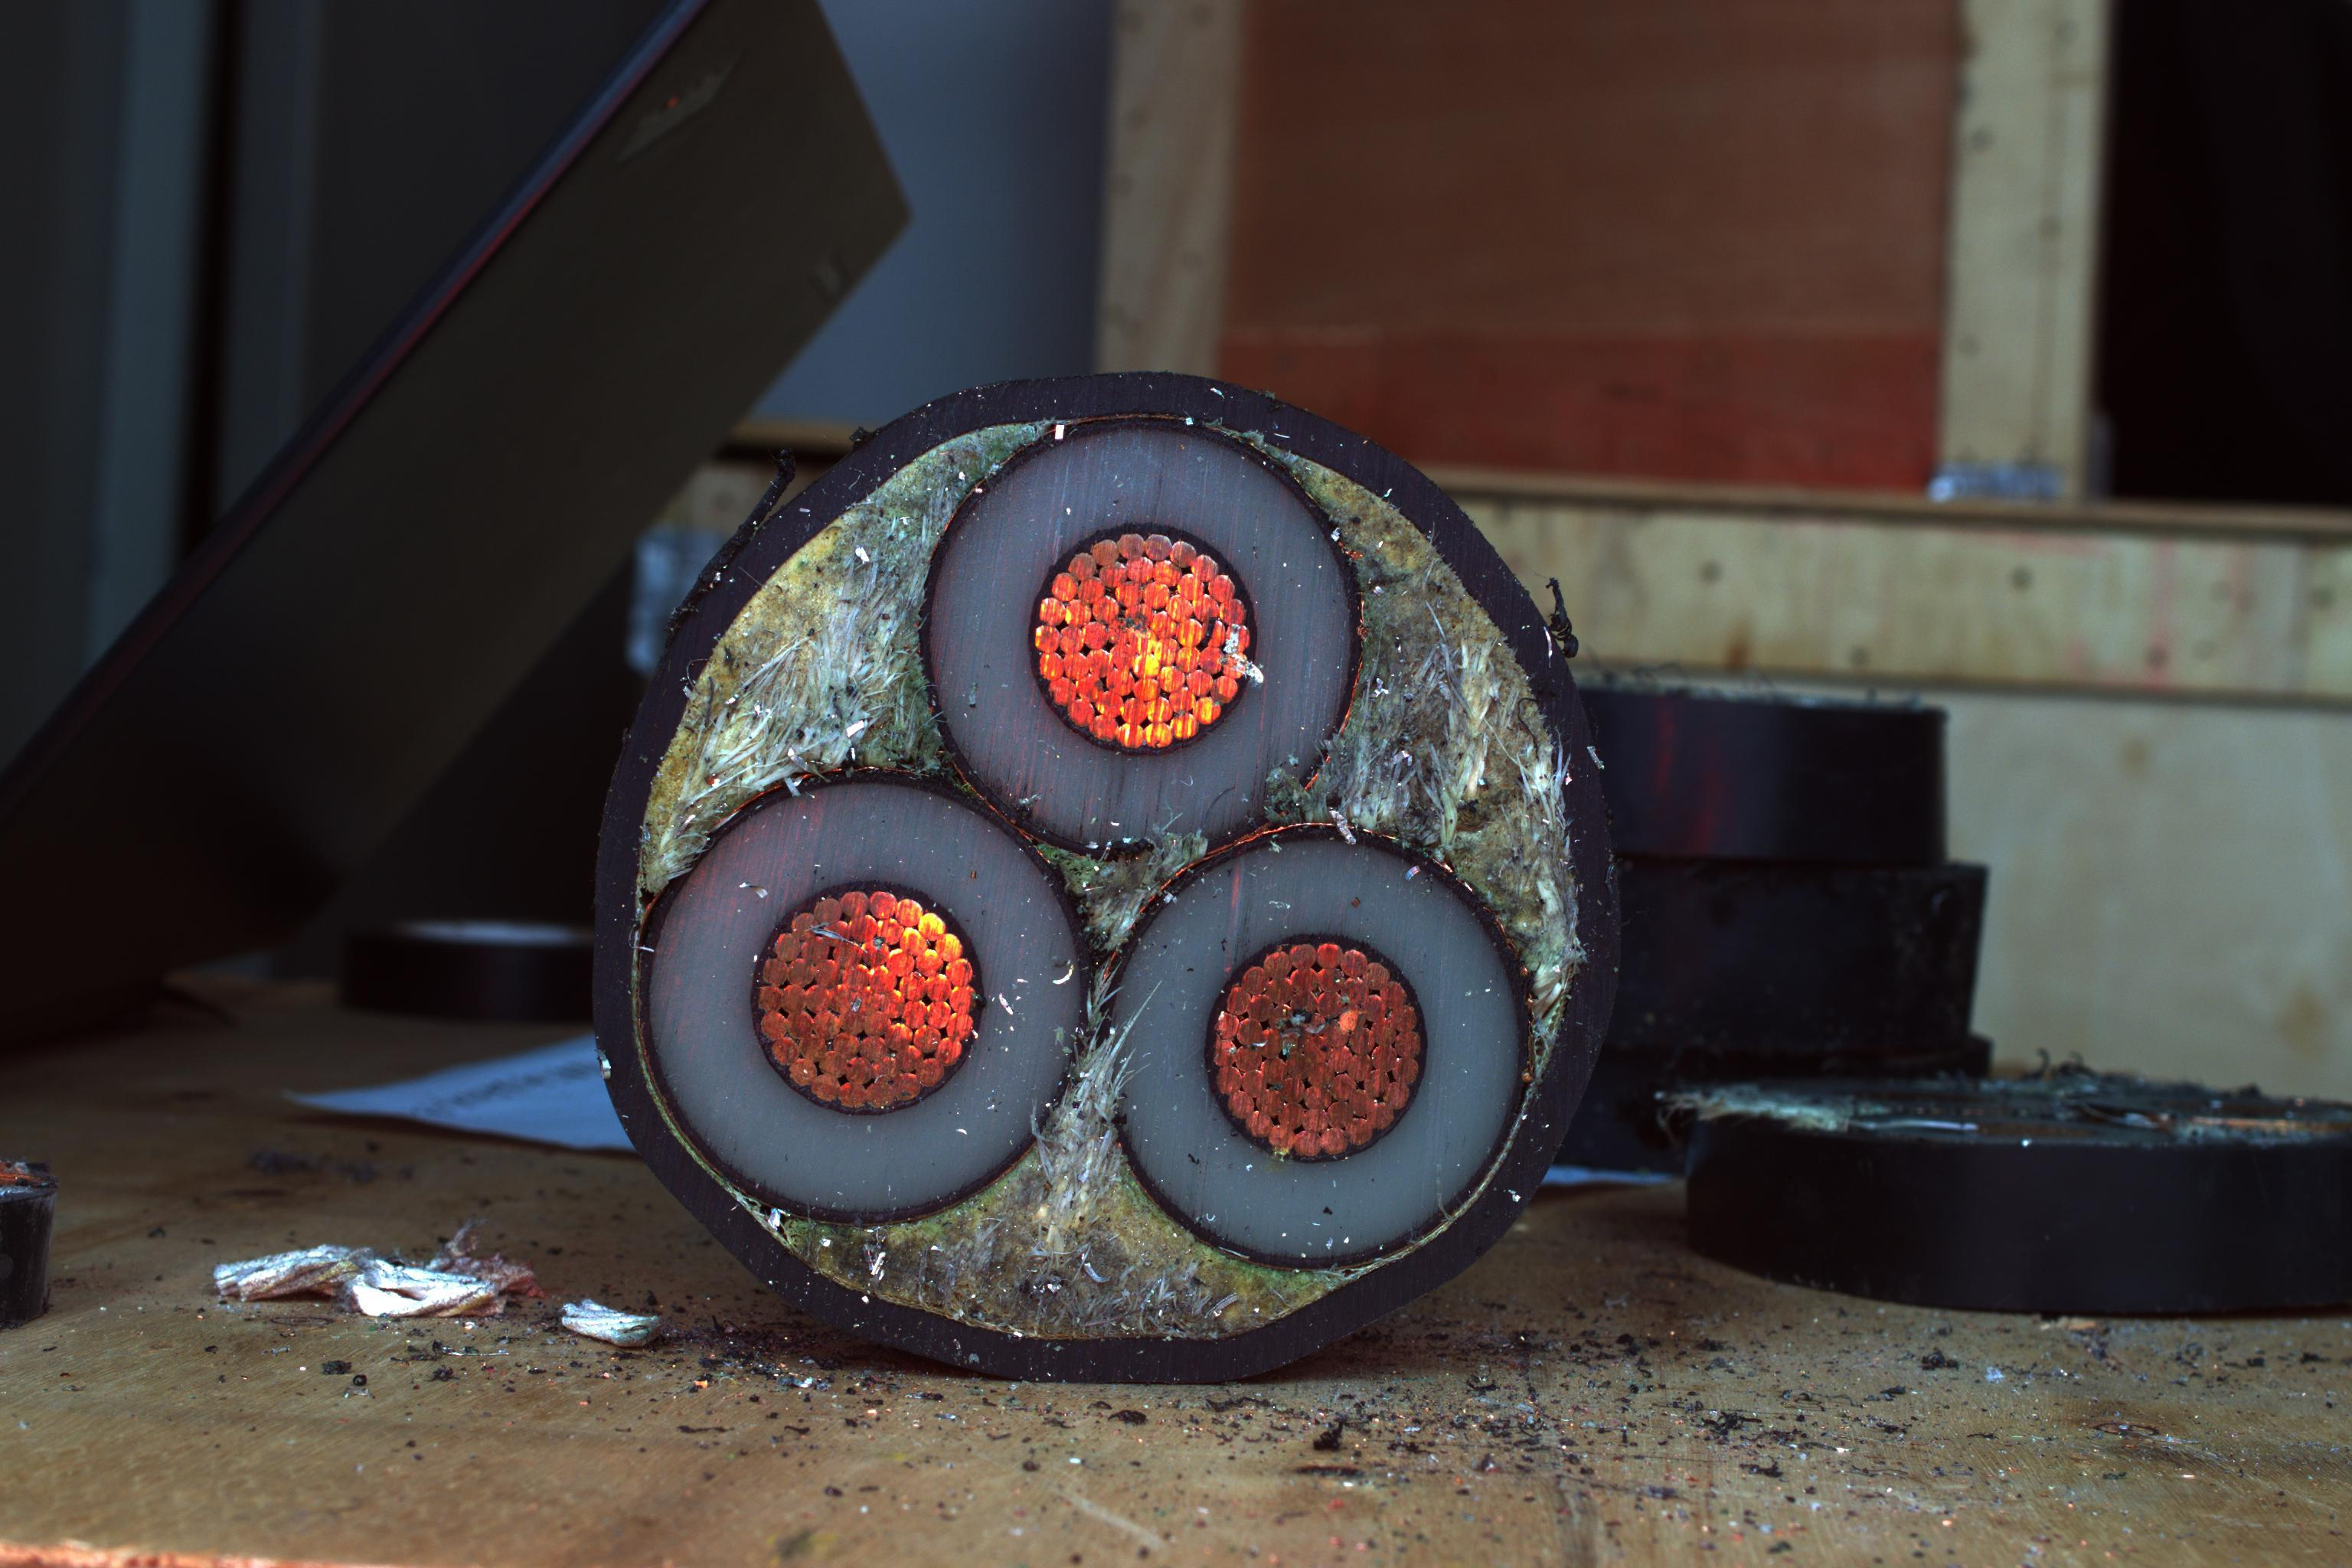ZA_YJV_26_35kV_3x400: (605, 401, 1598, 1372)
